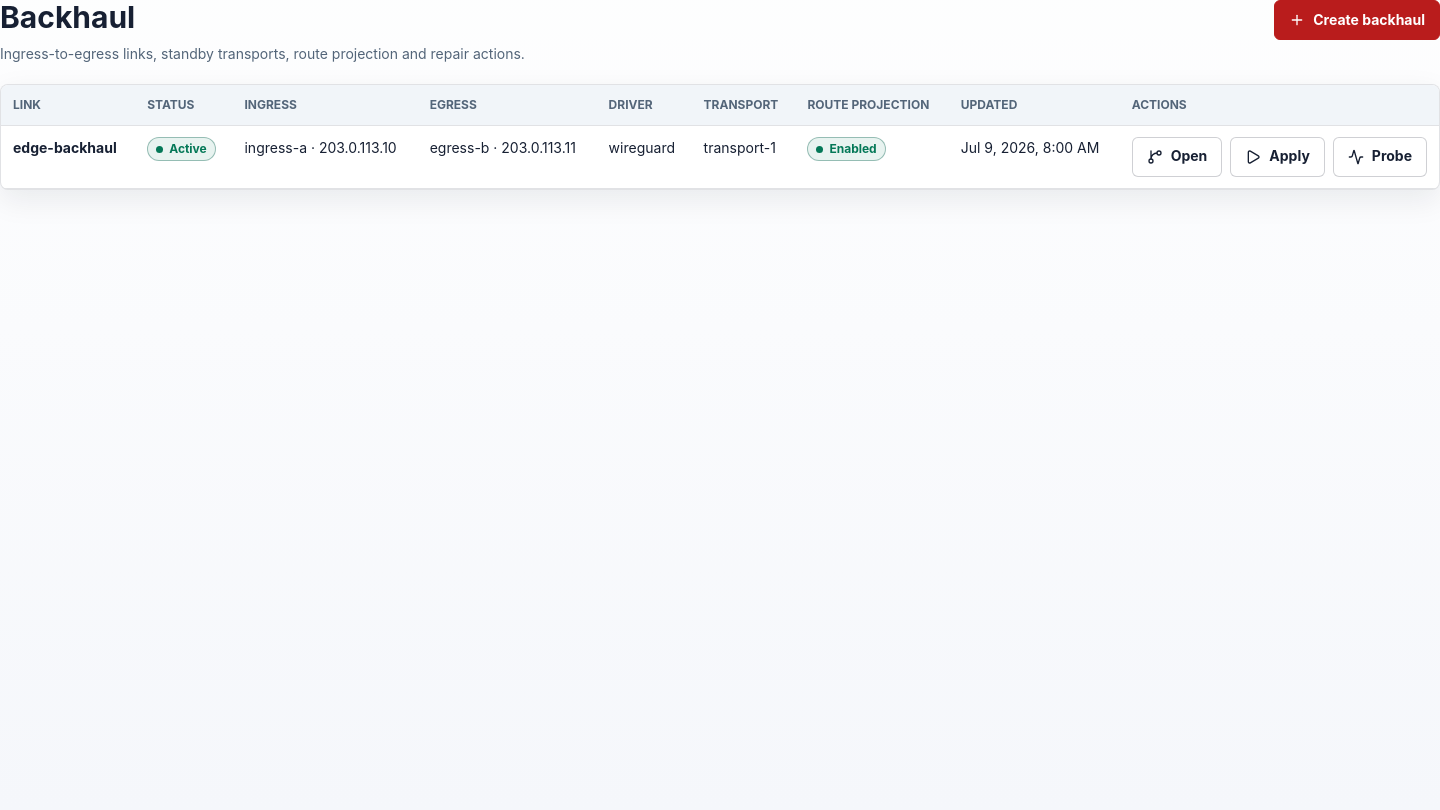
Scenario: Backhaul and RoutePolicy workflows › loads Backhaul list/detail safely and does not render transport secrets
Check: the text "edge-backhaul" is shown, box [13, 138, 117, 156]
Click the button "Open" at (1177, 156), box [1132, 136, 1222, 176]
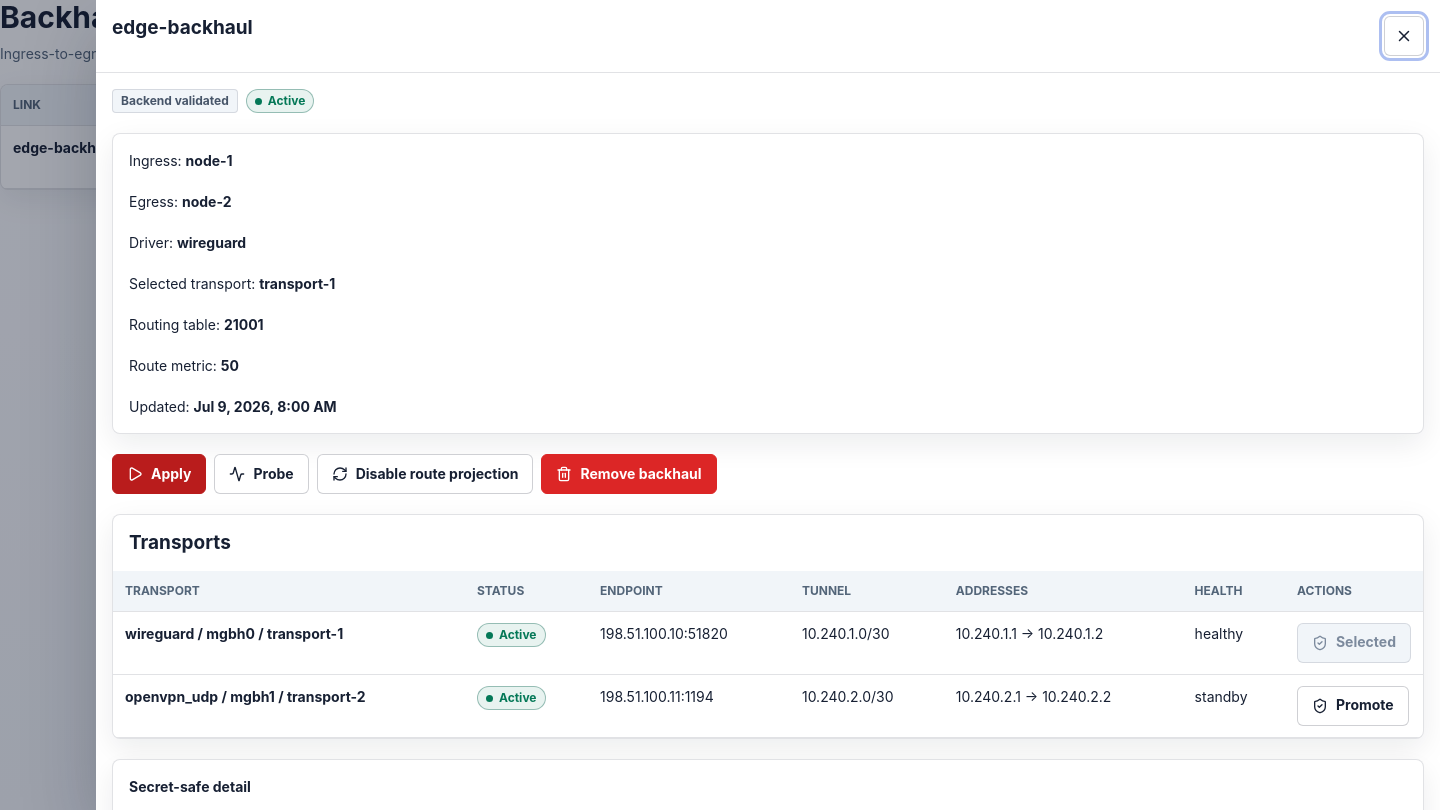
Check: the text "transport-1" is shown, box [692, 125, 795, 188]
Check: the text "Secret-safe detail" is shown, box [129, 778, 251, 795]
